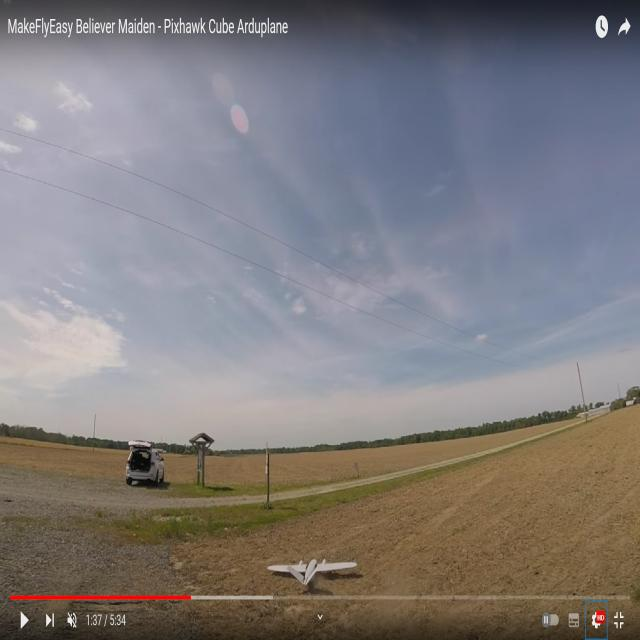iha: (303, 559, 324, 588)
